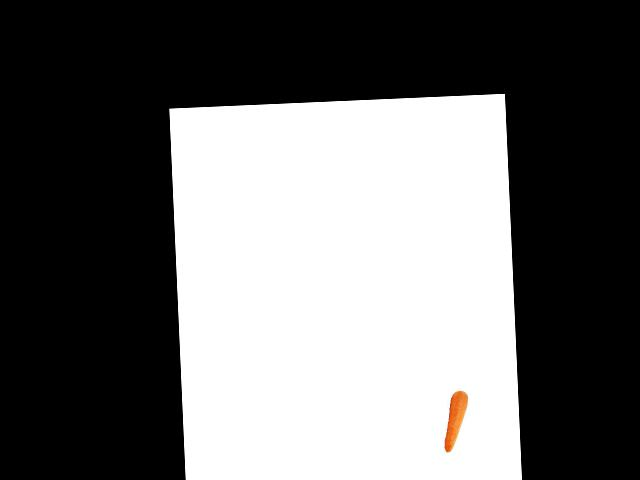carrot: (442, 389, 473, 455)
